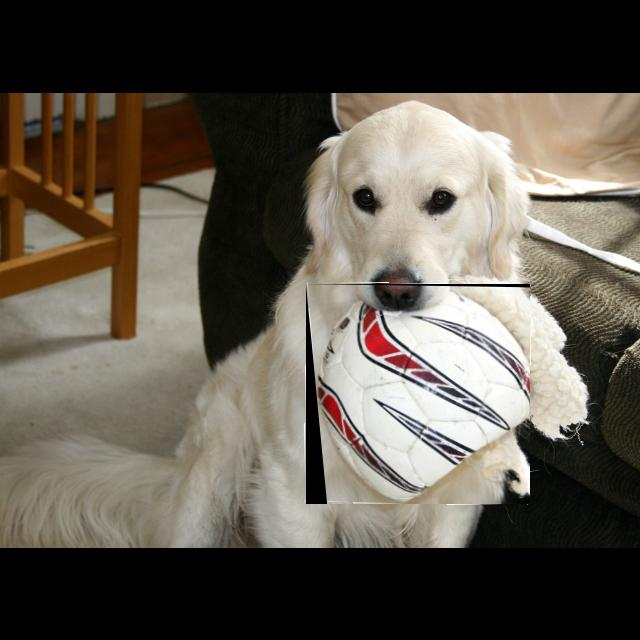Football: (306, 284, 530, 504)
